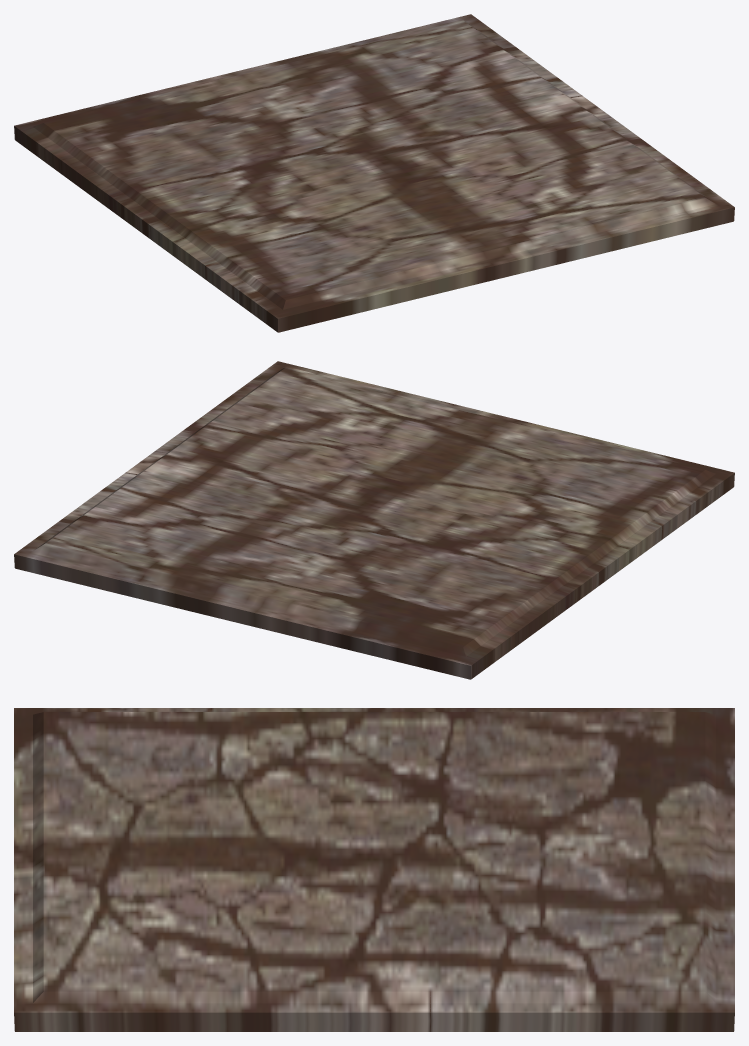
3 views of the same model, one above another, from view 1: azimuth 30°, elevation 25°; view 2: azimuth 150°, elevation 25°; view 3: azimuth 270°, elevation 25° (orthographic). The views are drawn at different scales.
Visible parts, largest first — view 1: Plane005; view 2: Plane005; view 3: Plane005.
Part boxes in pixels (x1,y1,x2,y2): Plane005: (14, 14, 734, 332); Plane005: (14, 361, 734, 679); Plane005: (14, 708, 734, 1031).
Size of the model in its own units: 2 by 2 by 0.0857.
